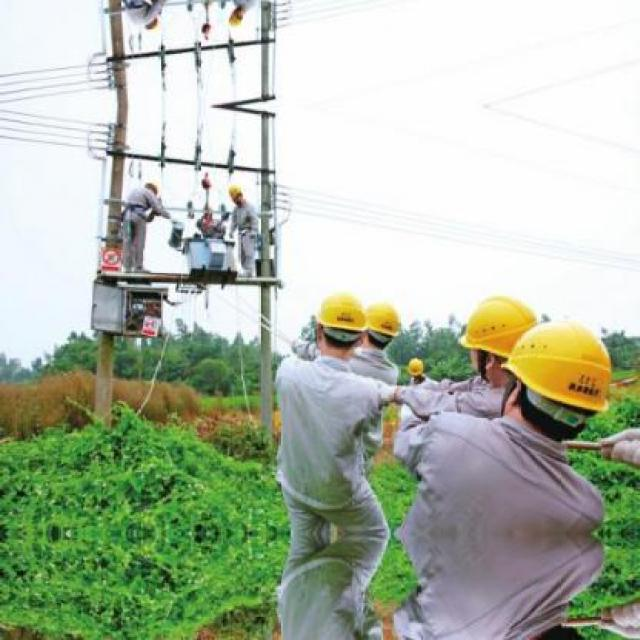Safety-Helmet: (494, 313, 626, 420), (451, 287, 546, 367), (304, 282, 370, 344), (360, 294, 412, 348), (403, 352, 431, 382), (225, 180, 248, 200), (143, 176, 165, 194)
